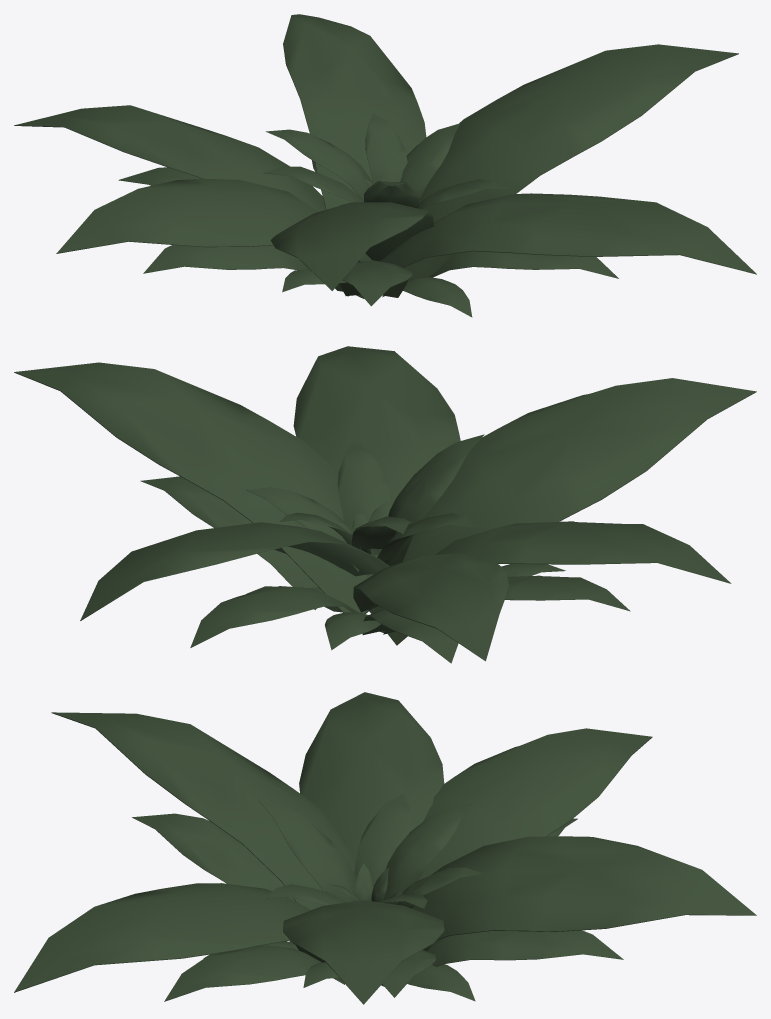
Rendered from LeadPlantF.fbx.
The picture shows the model from 3 angles, top to bottom: view 1: azimuth 30°, elevation 25°; view 2: azimuth 150°, elevation 25°; view 3: azimuth 270°, elevation 25°; orthographic projection. The views are drawn at different scales.
Parts seen in each view (by area): view 1: LeadPlant; view 2: LeadPlant; view 3: LeadPlant.
Boxes of the visible parts, <box> form: LeadPlant: <box>14,14,756,317</box>; LeadPlant: <box>14,346,756,663</box>; LeadPlant: <box>14,692,756,1004</box>.
Bounding box in the file's own units: 3.09 × 0.7549 × 2.79.
